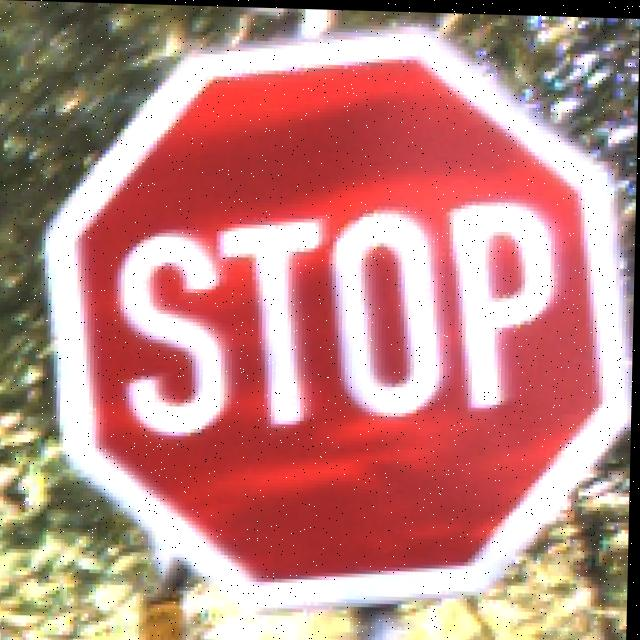stop: (52, 29, 620, 600)
